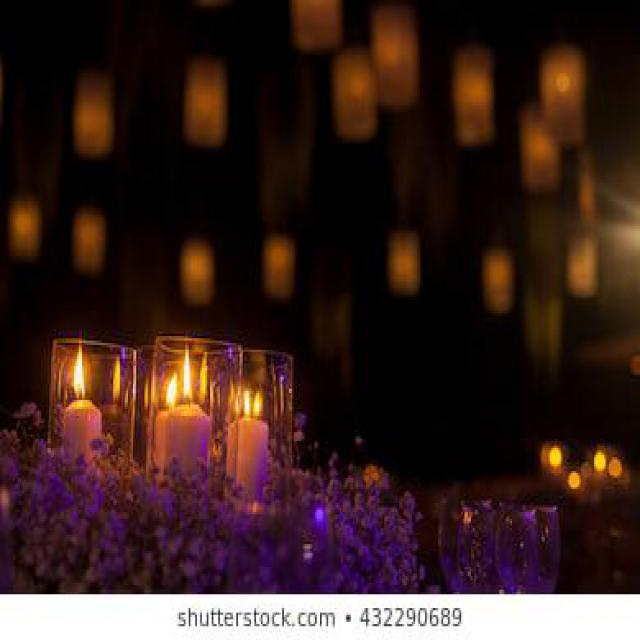Fire: (74, 345, 86, 402), (183, 344, 193, 406), (164, 371, 179, 412), (244, 388, 252, 418)
